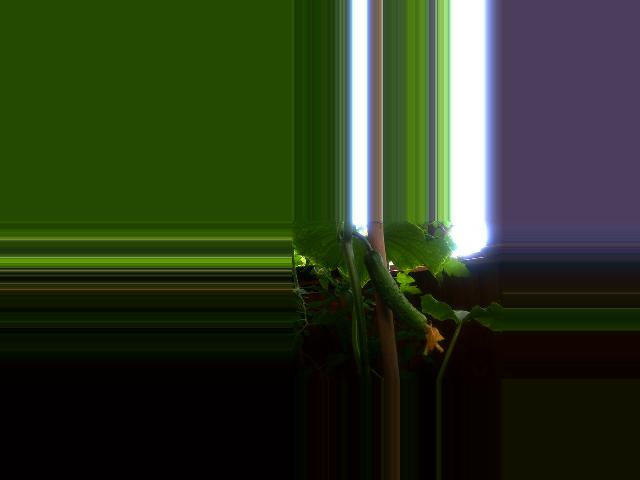cucumber: (364, 251, 445, 356)
